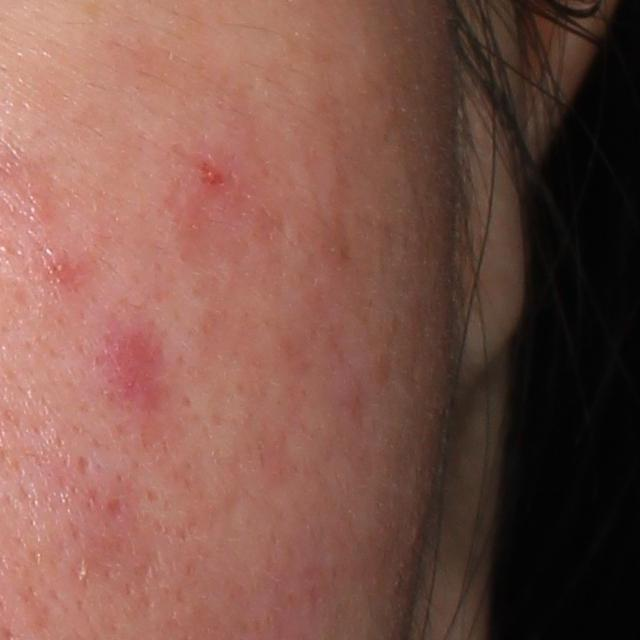papule: (102, 319, 163, 400), (181, 153, 235, 204), (33, 249, 76, 286)
